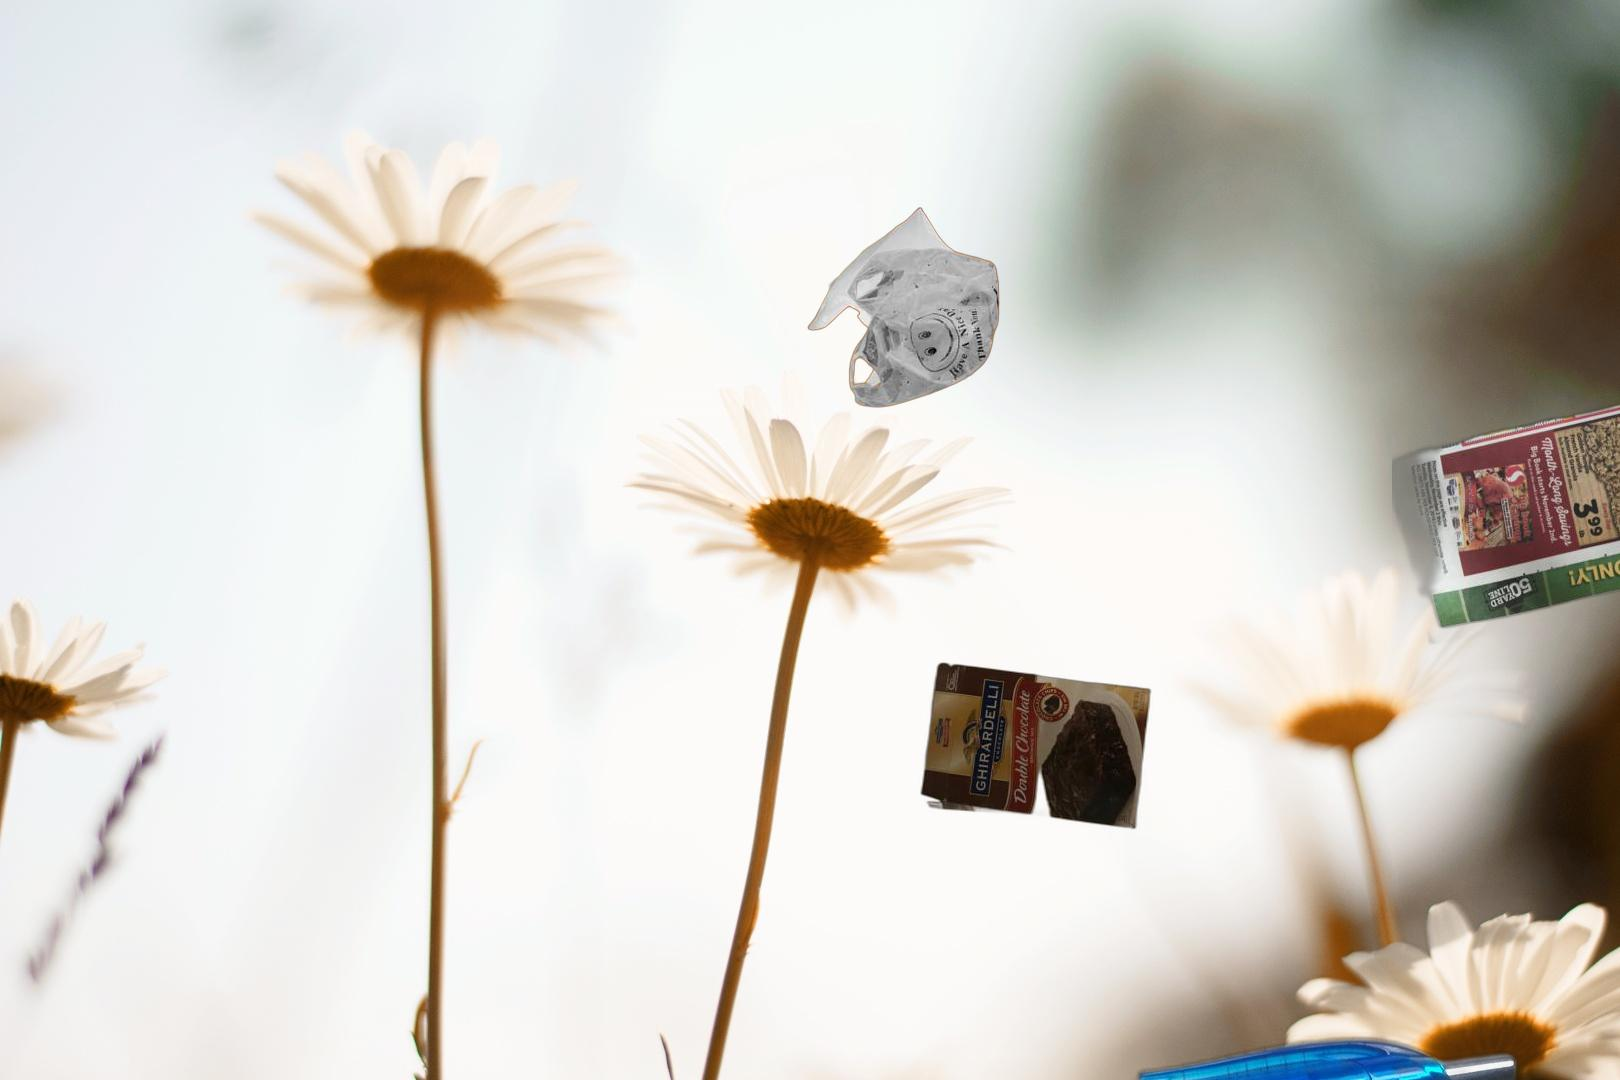paper: (1392, 268, 1620, 651), (916, 659, 1155, 830)
penholder: (667, 1029, 1527, 1080)
plastic-bag: (805, 205, 1002, 407), (1313, 1006, 1424, 1080)
